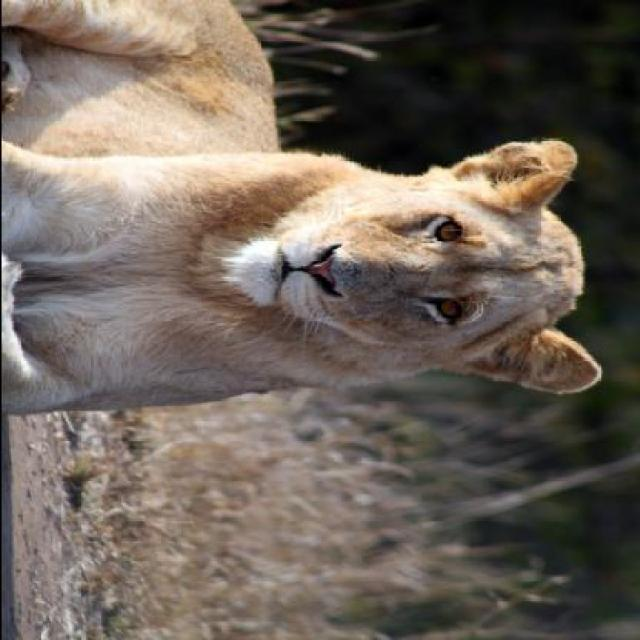Lion: (9, 0, 638, 449)
